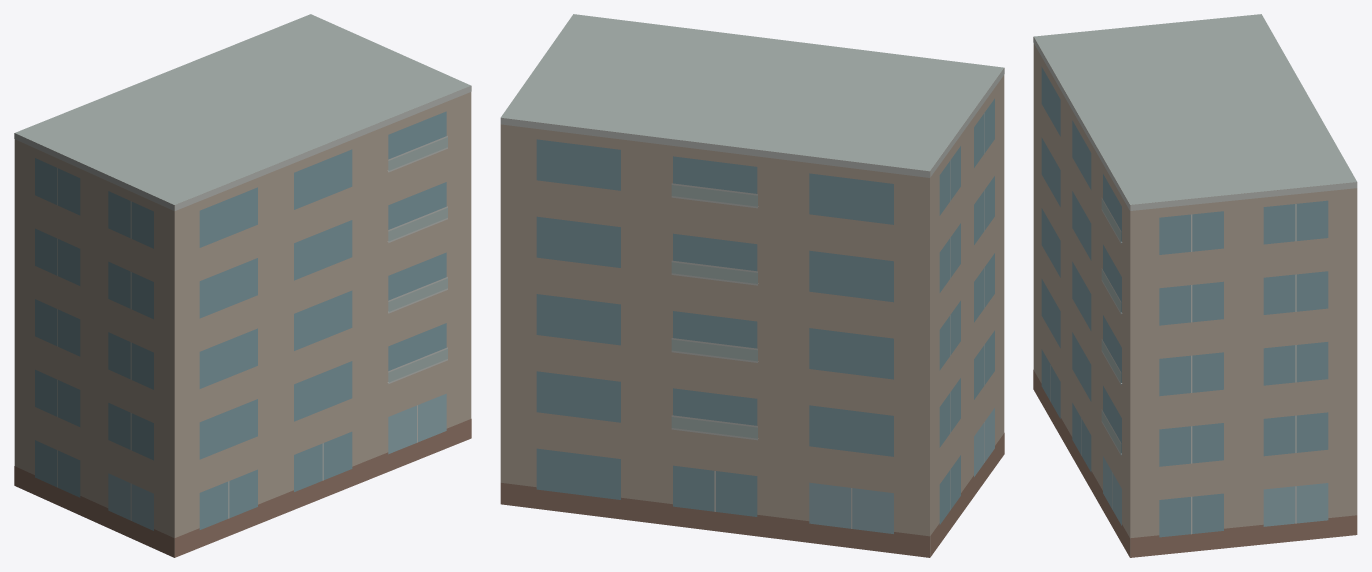
File: survey-upis-32664350.glb
3 renders of one model, left to right at view 1: azimuth 30°, elevation 25°; view 2: azimuth 150°, elevation 25°; view 3: azimuth 270°, elevation 25°, orthographic. The views are drawn at different scales.
Visible parts, largest first — view 1: survey-upis-32664350.tmp; view 2: survey-upis-32664350.tmp; view 3: survey-upis-32664350.tmp.
Boxes of the visible parts, x1,y1,x2,y2 form: survey-upis-32664350.tmp: (14,14,471,557); survey-upis-32664350.tmp: (500,14,1004,557); survey-upis-32664350.tmp: (1033,14,1357,557).
Bounding box in the file's own units: 16.37 × 14.1 × 11.73.
